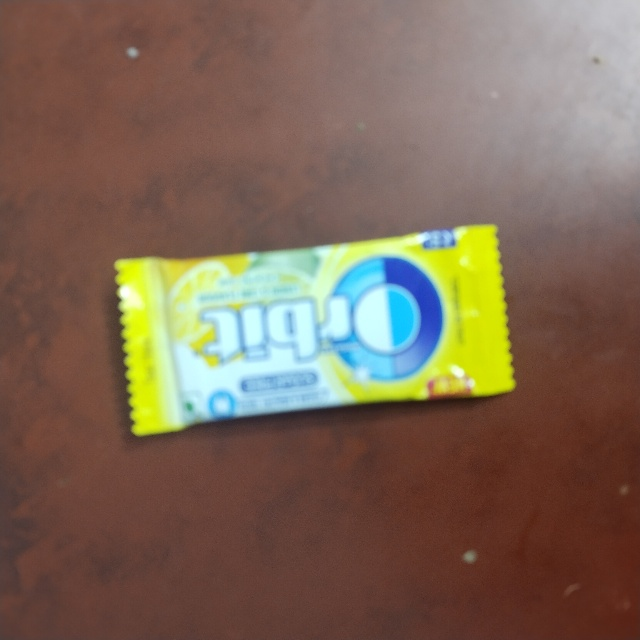Orbit: (111, 259, 501, 438)
